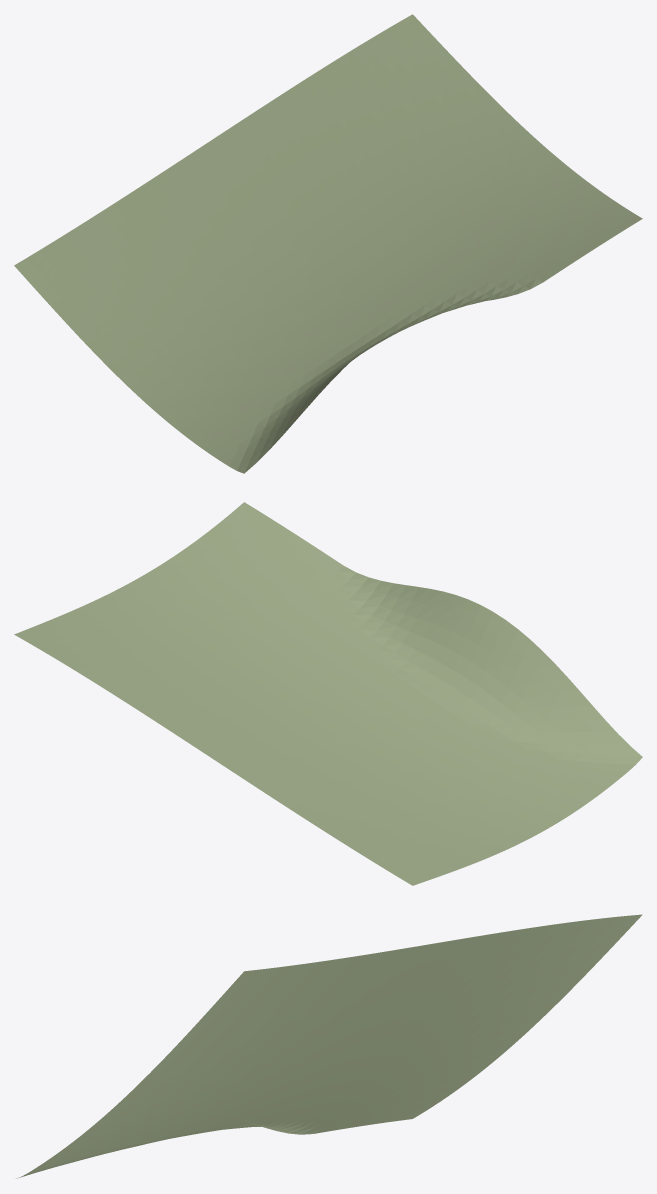
Rendered from expanse-25-15.glb.
3 views of the same model, one above another, from view 1: azimuth 30°, elevation 25°; view 2: azimuth 150°, elevation 25°; view 3: azimuth 330°, elevation 25° (orthographic).
Visible parts, largest first — view 1: expanse-25-15; view 2: expanse-25-15; view 3: expanse-25-15.
Part boxes in pixels (box(x1,y1,x2,y2)): expanse-25-15: box(14, 14, 642, 473); expanse-25-15: box(14, 502, 642, 885); expanse-25-15: box(16, 914, 642, 1178).
Bounding box in the file's own units: 256 × 122 × 256.
